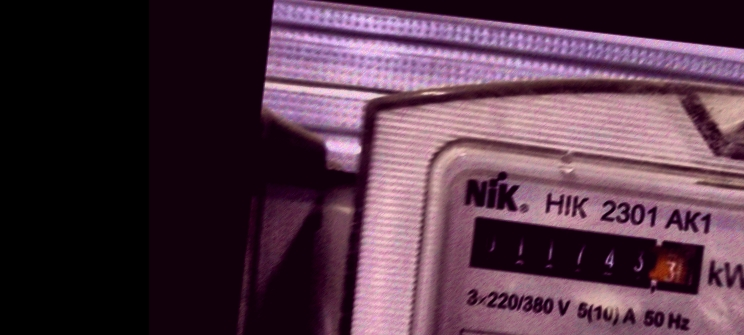0: (483, 226, 500, 255)
1: (543, 233, 558, 262), (514, 230, 527, 258)
3: (631, 246, 648, 274), (661, 258, 678, 285)
4: (602, 242, 619, 271)
7: (572, 236, 590, 266)
screen: (458, 205, 717, 307)
